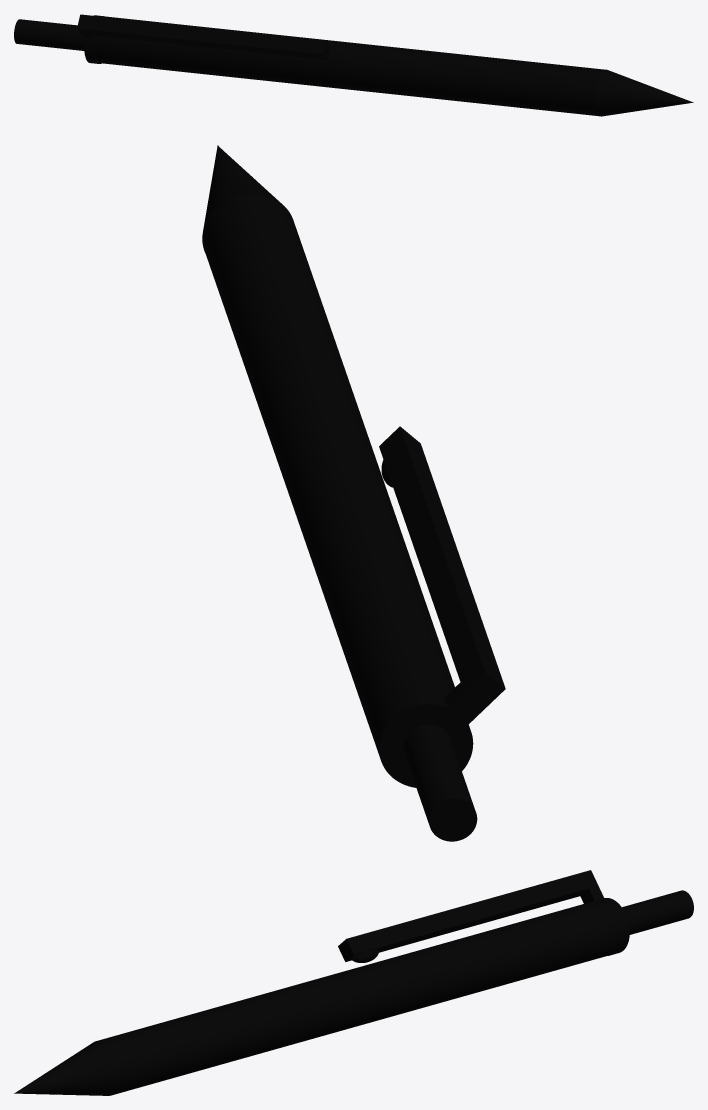
The model's file is Black & Gray Gel Pen.glb.
3 views of the same model, one above another, from view 1: azimuth 30°, elevation 25°; view 2: azimuth 150°, elevation 25°; view 3: azimuth 270°, elevation 25° (orthographic). The views are drawn at different scales.
Visible parts, largest first — view 1: Object_5, Object_15, Object_9, Object_7, Object_13; view 2: Object_5, Object_15, Object_7, Object_13, Object_9, Object_17; view 3: Object_5, Object_15, Object_9, Object_7, Object_13.
Boxes of the visible parts, x1,y1,x2,y2 form: Object_5: [94, 16, 604, 116]; Object_15: [78, 14, 330, 59]; Object_9: [595, 69, 692, 116]; Object_7: [14, 19, 84, 50]; Object_13: [84, 15, 103, 63]; Object_5: [202, 194, 454, 747]; Object_15: [379, 426, 504, 689]; Object_7: [403, 724, 477, 841]; Object_13: [375, 694, 473, 787]; Object_9: [202, 146, 281, 252]; Object_17: [444, 662, 505, 724]; Object_5: [99, 900, 619, 1094]; Object_15: [338, 870, 596, 961]; Object_9: [15, 1040, 121, 1095]; Object_7: [622, 890, 693, 934]; Object_13: [596, 898, 629, 955].
Size of the model in its own units: 0.1806 by 0.0302 by 0.2186.
Materials: 8 (8 with a texture image).
